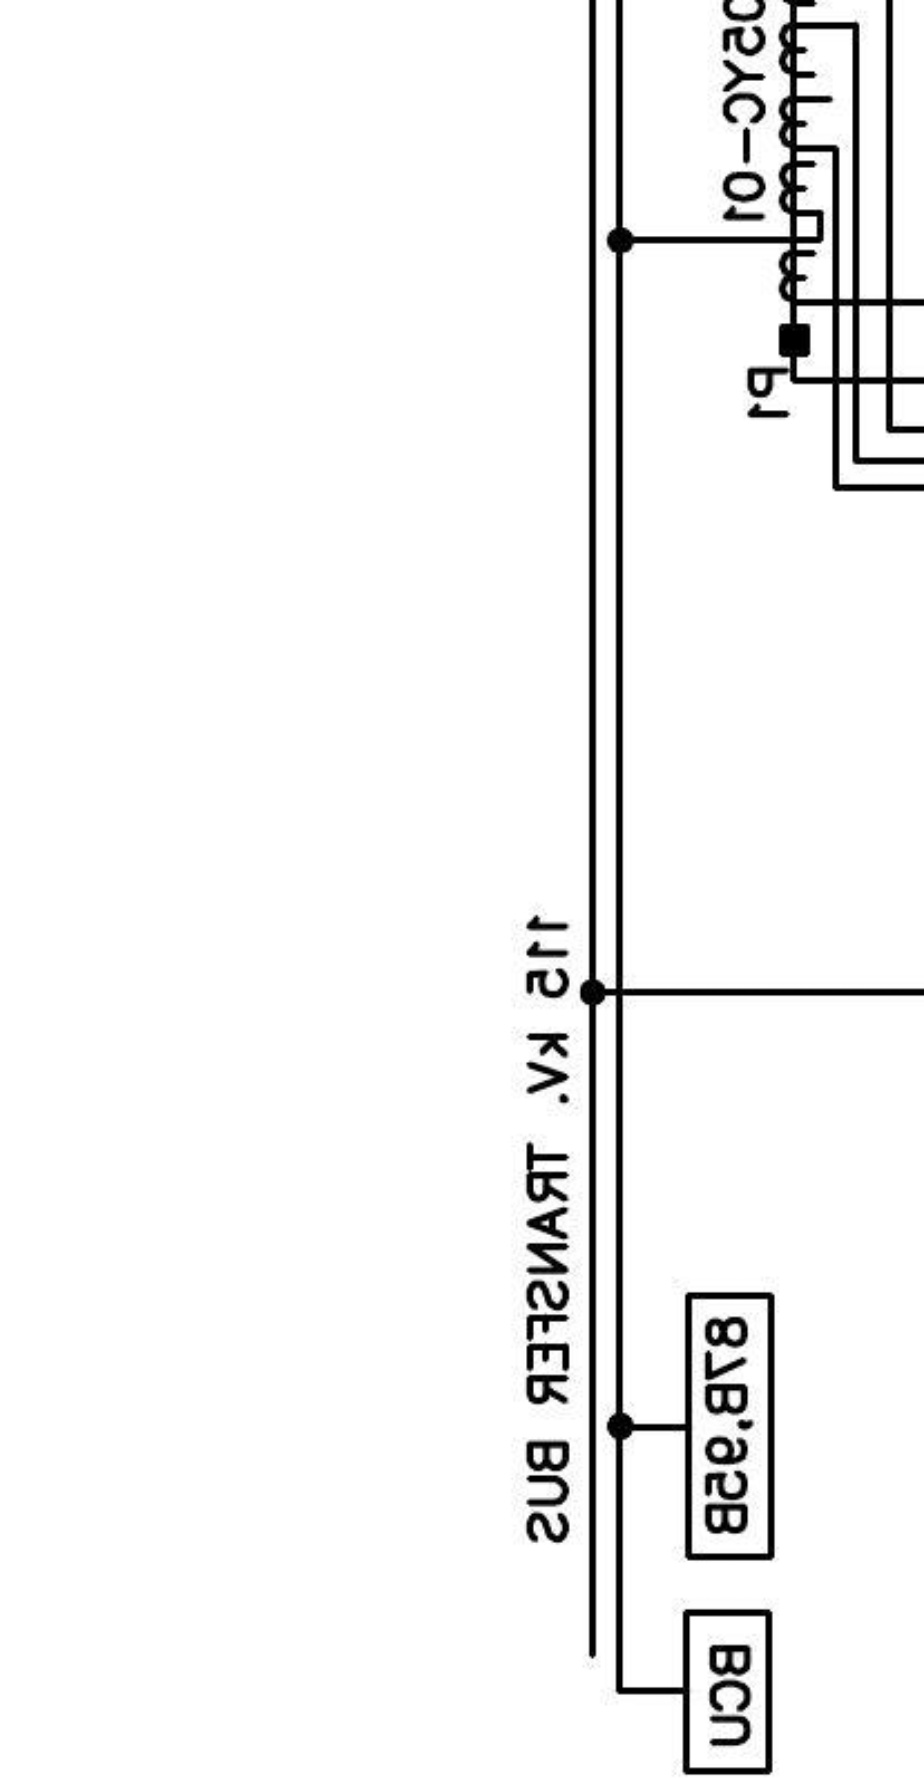BCU: (682, 1607, 773, 1777)
